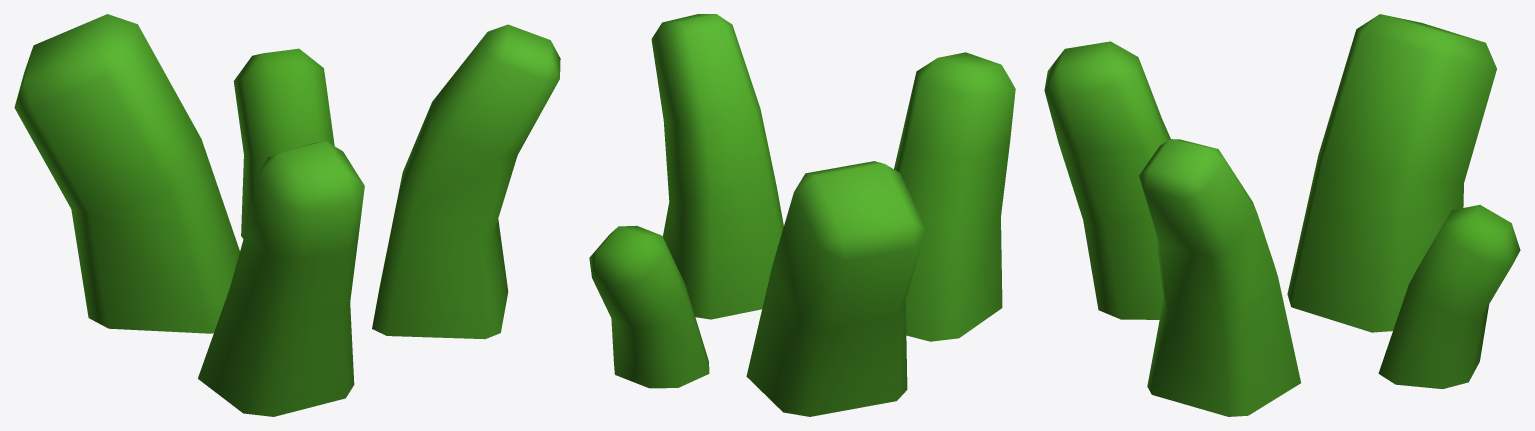
Rendered from Grass_1_2.obj.
3 views of the same model, side by side, from view 1: azimuth 30°, elevation 25°; view 2: azimuth 150°, elevation 25°; view 3: azimuth 270°, elevation 25° (orthographic). The views are drawn at different scales.
Visible parts, largest first — view 1: Grass_1_2; view 2: Grass_1_2; view 3: Grass_1_2.
Boxes of the visible parts, box(x1,y1,x2,y2) form: Grass_1_2: box(14, 14, 560, 416); Grass_1_2: box(589, 14, 1015, 416); Grass_1_2: box(1044, 14, 1520, 416).
Size of the model in its own units: 0.2258 by 0.1437 by 0.2355.
